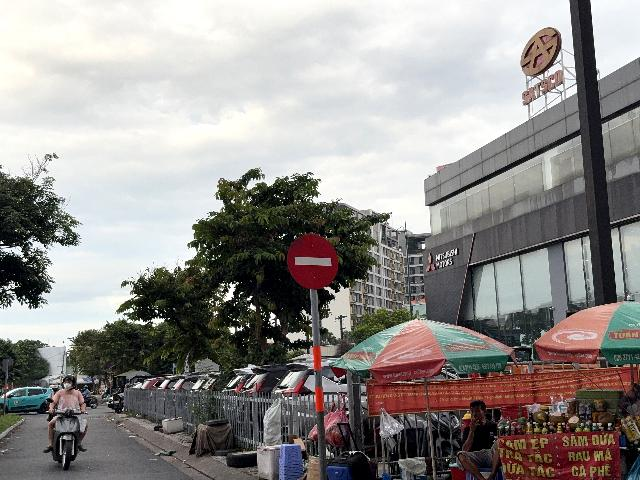cam-di-nguoc-chieu: (287, 233, 338, 289)
